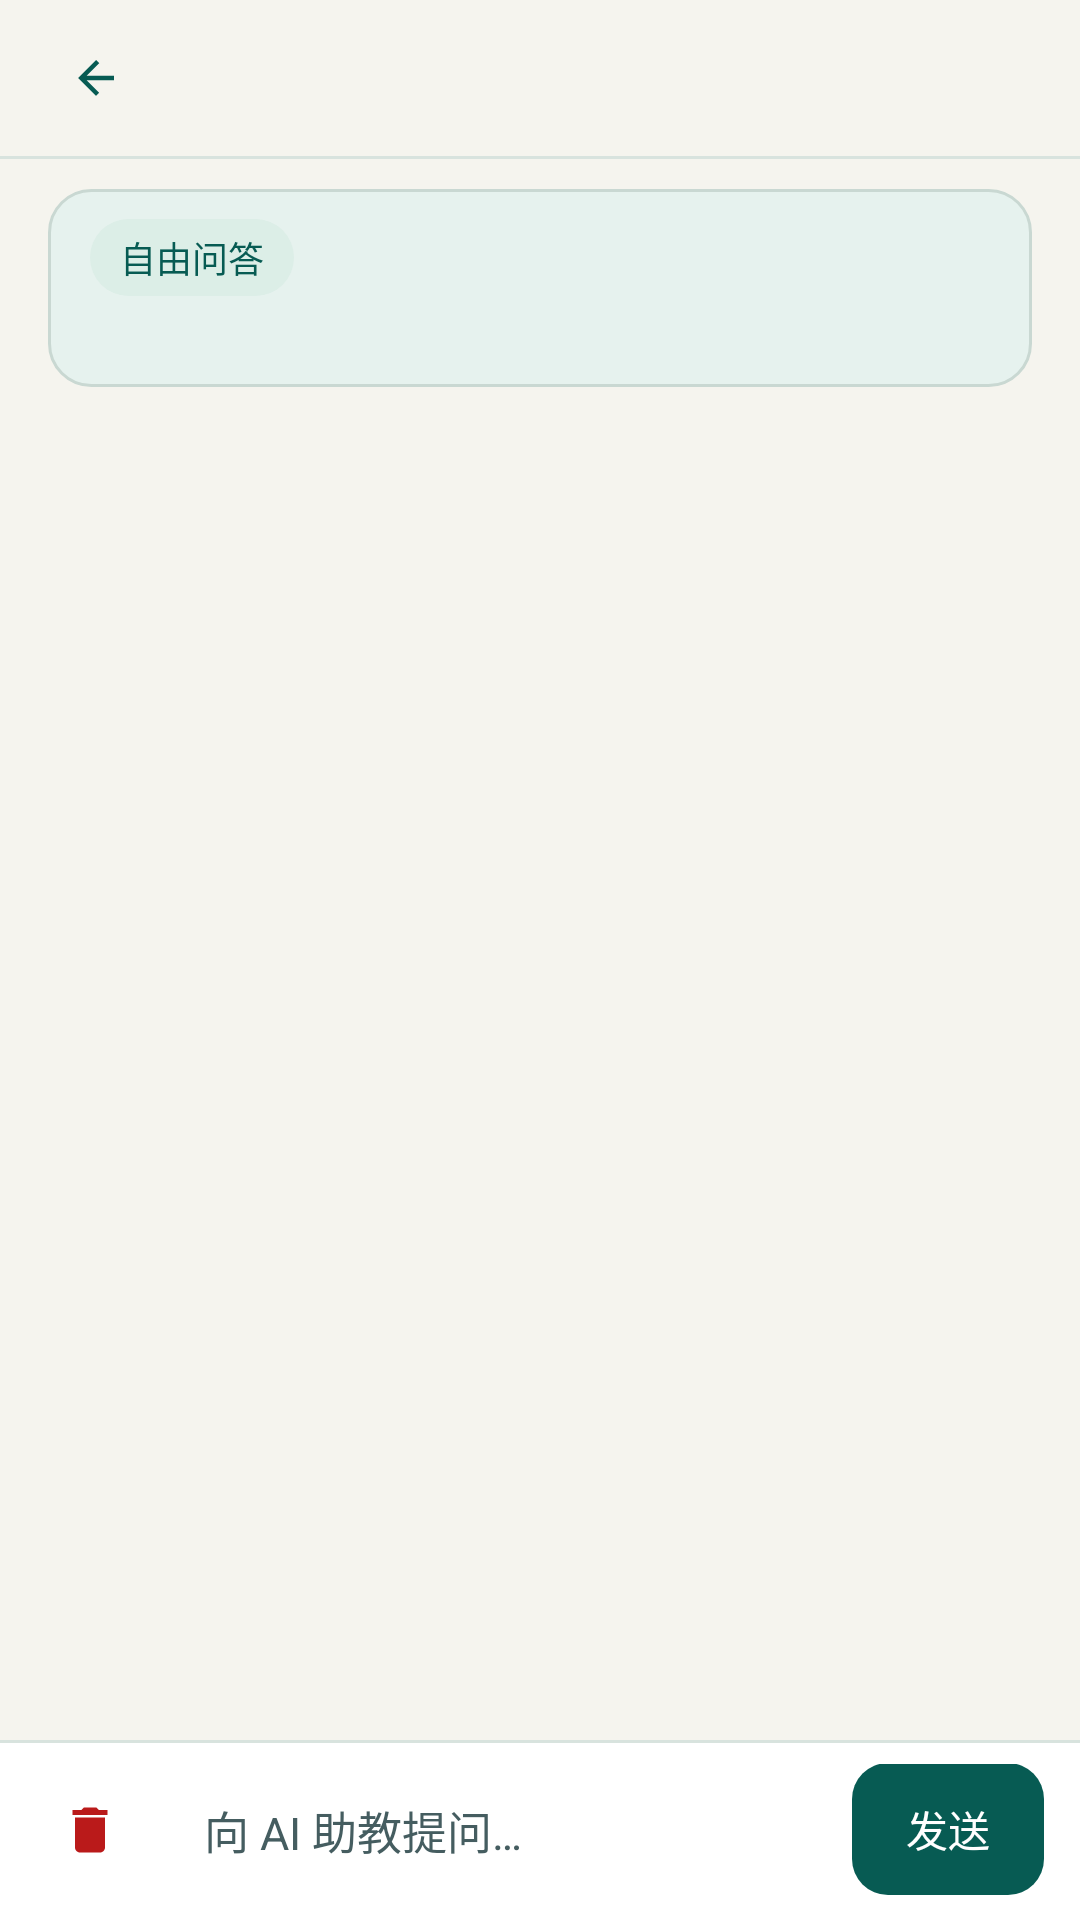

Named icons in this screenshot (1080w x 1920h) and their bounding boxes, (x1, y1, x2, y2):
清空: (72, 1807, 108, 1853)
返回: (78, 60, 114, 96)
